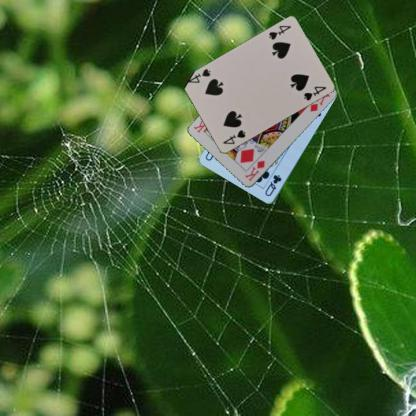4s: (266, 23, 292, 42), (220, 128, 247, 146)
Kd: (242, 158, 266, 182)
Qc: (262, 172, 283, 198)
